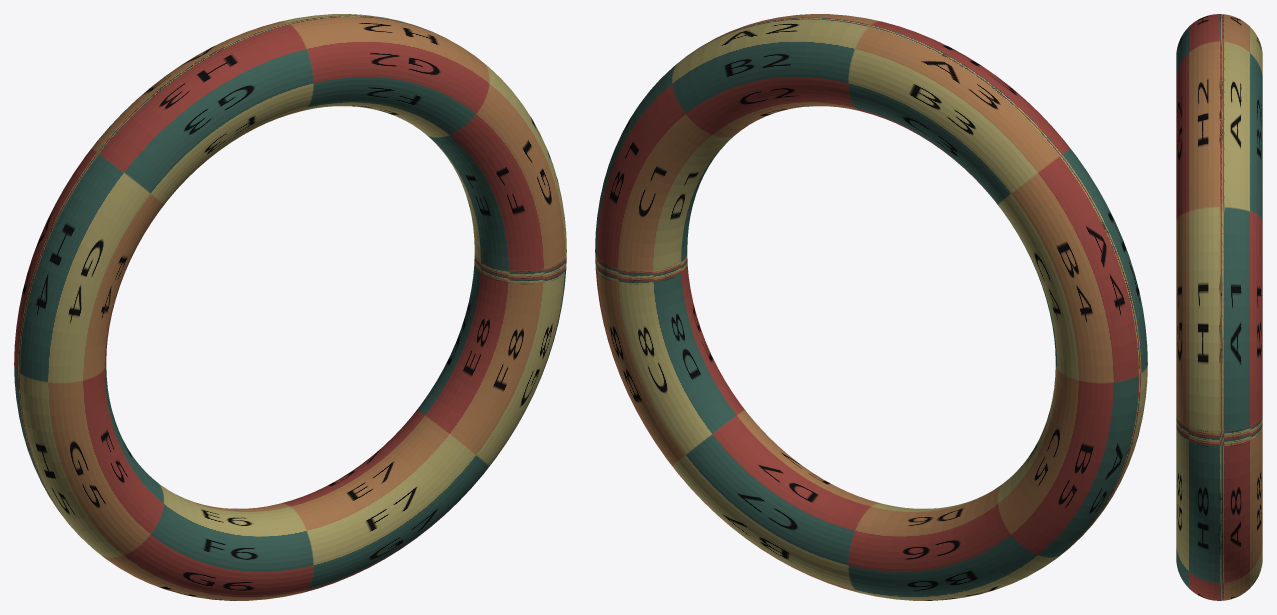
File: texture_torus_R3_r1.glb
3 views of the same model, side by side, from view 1: azimuth 30°, elevation 25°; view 2: azimuth 150°, elevation 25°; view 3: azimuth 270°, elevation 25° (orthographic). The views are drawn at different scales.
Visible parts, largest first — view 1: world; view 2: world; view 3: world.
Boxes of the visible parts, bbox=[...] form: world: bbox=[14, 14, 566, 600]; world: bbox=[595, 14, 1147, 600]; world: bbox=[1176, 14, 1262, 600].
Size of the model in its own units: 19.56 by 19.56 by 2.88.
Materials: 1 (1 with a texture image).
